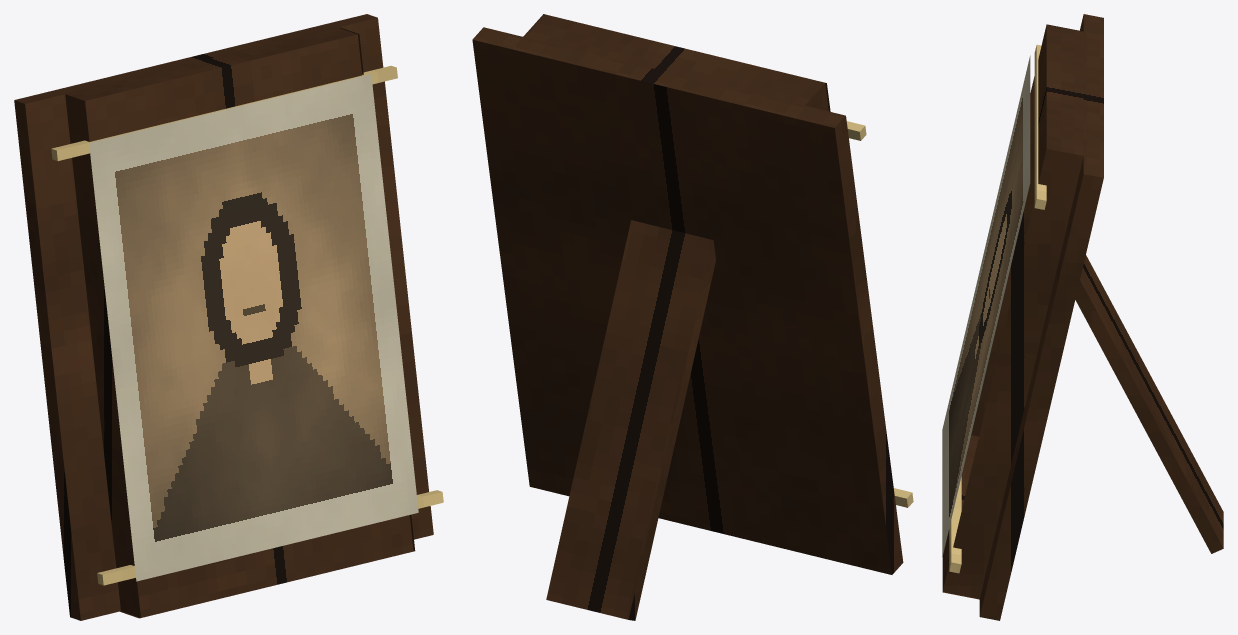
Rendered from item_photo.glb.
3 renders of one model, left to right at view 1: azimuth 30°, elevation 25°; view 2: azimuth 150°, elevation 25°; view 3: azimuth 270°, elevation 25°, orthographic. The views are drawn at different scales.
Visible parts, largest first — view 1: photo; view 2: photo; view 3: photo.
Boxes of the visible parts, left/top/right/bottom form: photo: left=14, top=14, right=443, bottom=620; photo: left=472, top=14, right=913, bottom=620; photo: left=942, top=14, right=1223, bottom=620.
Size of the model in its own units: 0.11 by 0.1454 by 0.0817.
Materials: 3 (3 with a texture image).
